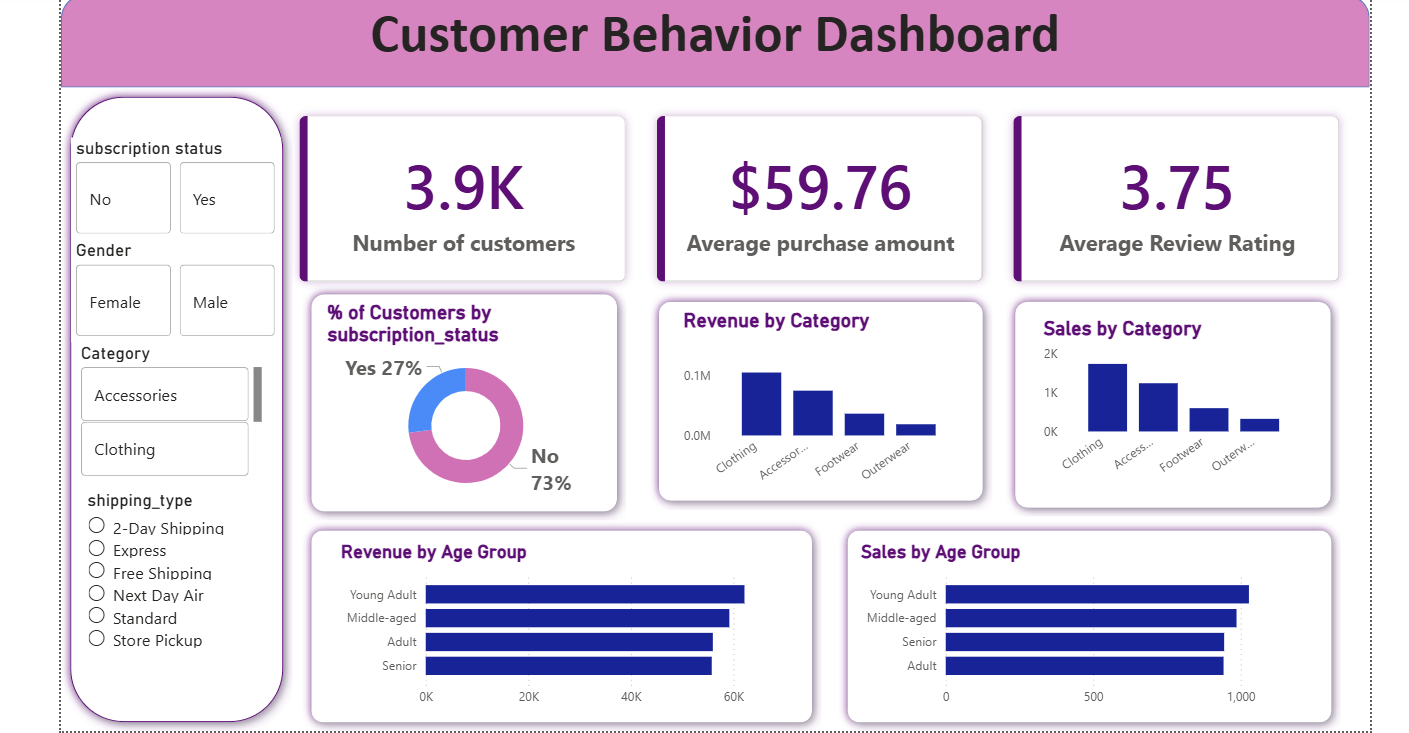

What the dashboard file says about the page in this screenshot:
{"tool":"powerbi","page":{"name":"Page 1","canvas":[1280,720],"ordinal":0},"visuals":[{"type":"cardVisual","fields":{"Data":["public customer.Number of customers","public customer.Average purchase amount","public customer.Average Review Rating"]},"box":[205.8,90.6,1074.4,218.2],"z":0},{"type":"shape","box":[0,0,1280.3,90.6],"z":1000},{"type":"textbox","box":[0,0,1280.3,90.6],"z":2000},{"type":"shape","box":[236,284,317,230.5],"z":3000},{"type":"donutChart","title":"% of Customers by subscription_status","fields":{"Category":["public customer.subscription_status"],"Y":["CountNonNull(public customer.customer_id)"]},"box":[255.2,299.1,281.3,200.3],"z":4000},{"type":"shape","box":[576.3,290.9,334.8,212.7],"z":5000},{"type":"clusteredColumnChart","title":"Revenue by Category","fields":{"Category":["public customer.category"],"Y":["Sum(public customer.purchase_amount)"]},"box":[603.8,307.4,278.6,181.1],"z":6000},{"type":"shape","box":[924.9,290.9,326.6,219.6],"z":7000},{"type":"clusteredColumnChart","title":"Sales by Category","fields":{"Category":["public customer.category"],"Y":["CountNonNull(public customer.customer_id)"]},"box":[956.4,315.6,262.1,164.7],"z":8000},{"type":"shape","box":[0,90.6,226.4,629.8],"z":9000},{"type":"advancedSlicerVisual","title":"subscription status","fields":{"Values":["public customer.subscription_status"]},"box":[9.6,140,205.8,100.2],"z":10000},{"type":"advancedSlicerVisual","title":"Gender","fields":{"Values":["public customer.gender"]},"box":[9.6,240.1,205.8,100.2],"z":11000},{"type":"advancedSlicerVisual","title":"Category","fields":{"Values":["public customer.category"]},"box":[19.2,340.3,177,130.4],"z":12000},{"type":"listSlicer","fields":{"Values":["public customer.shipping_type"]},"box":[20.6,484.4,175.6,205.8],"z":13000},{"type":"shape","box":[236,514.6,507.7,205.8],"z":14000},{"type":"clusteredBarChart","title":"Revenue by Age Group","fields":{"Y":["Sum(public customer.purchase_amount)"],"Category":["public customer.age_group"]},"box":[269,533.8,454.2,170.2],"z":15000},{"type":"shape","box":[760.2,514.6,491.3,205.8],"z":16000},{"type":"clusteredBarChart","title":"Sales by Age Group","fields":{"Category":["public customer.age_group"],"Y":["CountNonNull(public customer.customer_id)"]},"box":[778,533.8,454.2,170.2],"z":17000}]}

Visuals, with their boxes on the page's 1280x720 design canvas (x1, y1, x2, y2). These are canvas units, not pixel positions in the 1409x733 screenshot, which may show the page scaled, cropped or inside an application window:
cardVisual - public customer.Number of customers x public customer.Average purchase amount: <bbox>206, 91, 1280, 309</bbox>
shape: <bbox>0, 0, 1280, 91</bbox>
textbox: <bbox>0, 0, 1280, 91</bbox>
shape: <bbox>236, 284, 553, 514</bbox>
"% of Customers by subscription_status" donutChart: <bbox>255, 299, 536, 499</bbox>
shape: <bbox>576, 291, 911, 504</bbox>
"Revenue by Category" clusteredColumnChart: <bbox>604, 307, 882, 488</bbox>
shape: <bbox>925, 291, 1252, 510</bbox>
"Sales by Category" clusteredColumnChart: <bbox>956, 316, 1218, 480</bbox>
shape: <bbox>0, 91, 226, 720</bbox>
"subscription status" advancedSlicerVisual: <bbox>10, 140, 215, 240</bbox>
"Gender" advancedSlicerVisual: <bbox>10, 240, 215, 340</bbox>
"Category" advancedSlicerVisual: <bbox>19, 340, 196, 471</bbox>
listSlicer - public customer.shipping_type: <bbox>21, 484, 196, 690</bbox>
shape: <bbox>236, 515, 744, 720</bbox>
"Revenue by Age Group" clusteredBarChart: <bbox>269, 534, 723, 704</bbox>
shape: <bbox>760, 515, 1252, 720</bbox>
"Sales by Age Group" clusteredBarChart: <bbox>778, 534, 1232, 704</bbox>
